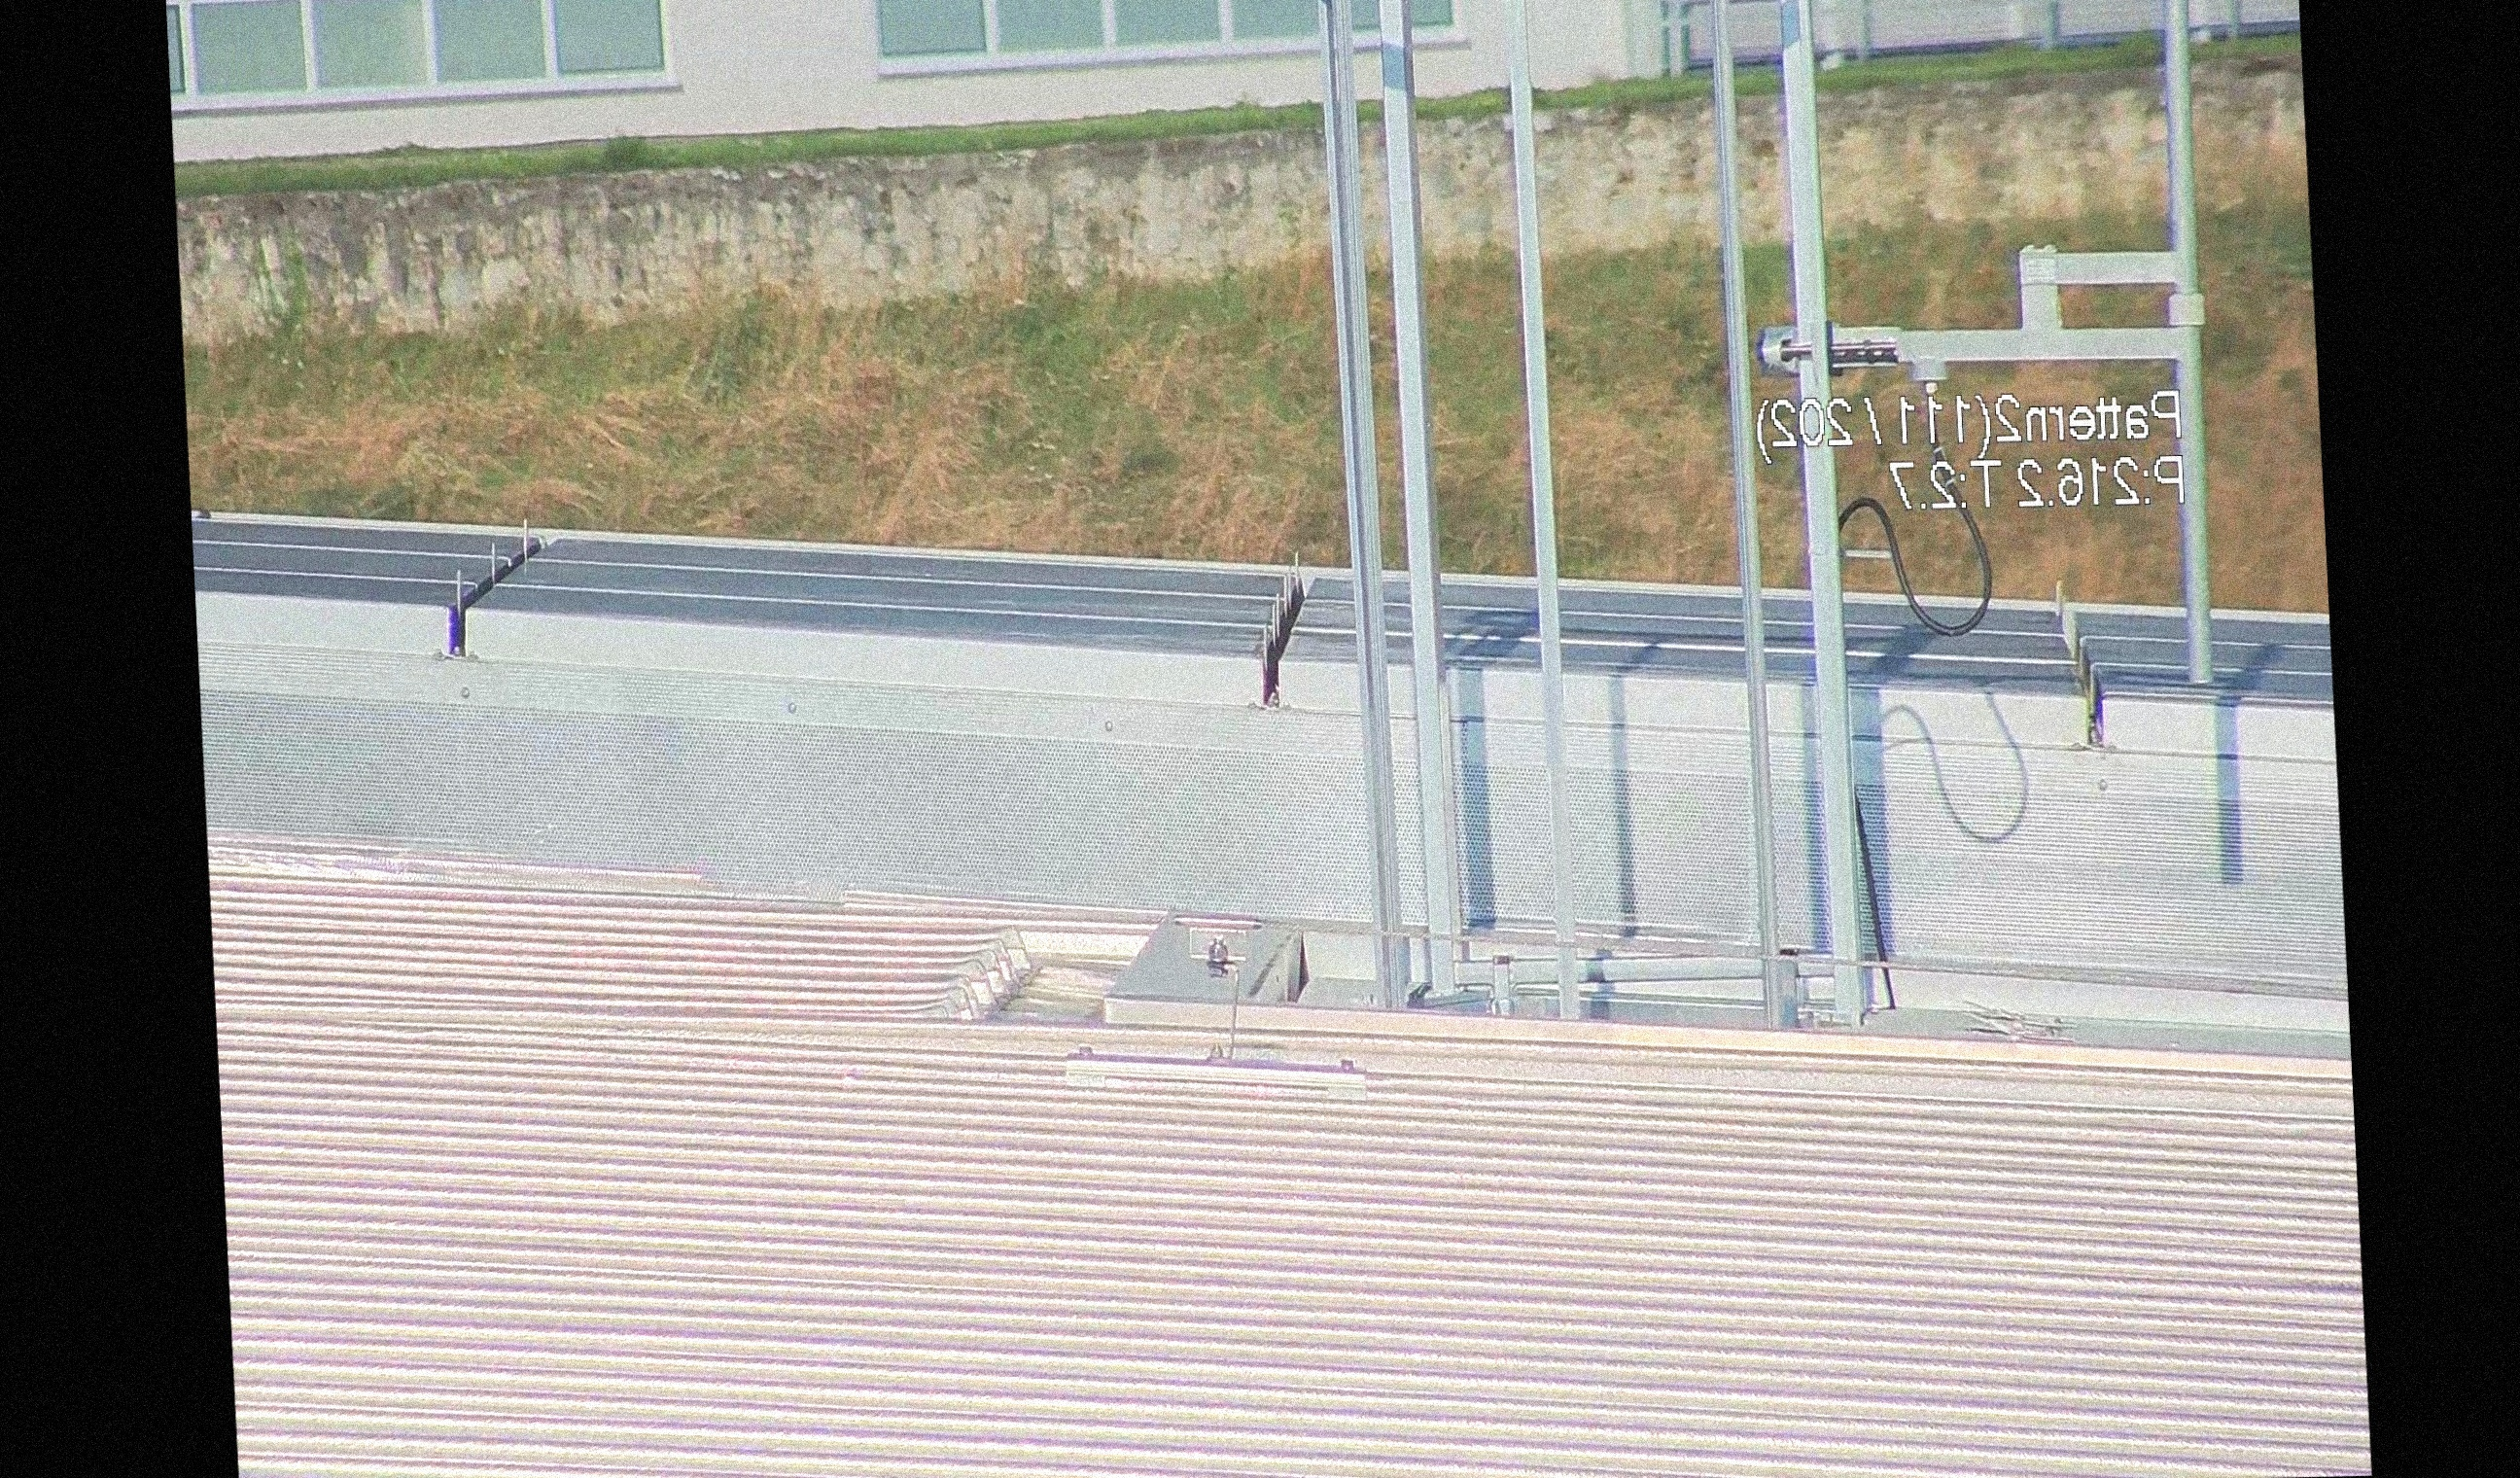Other: (1235, 544, 1338, 713)
